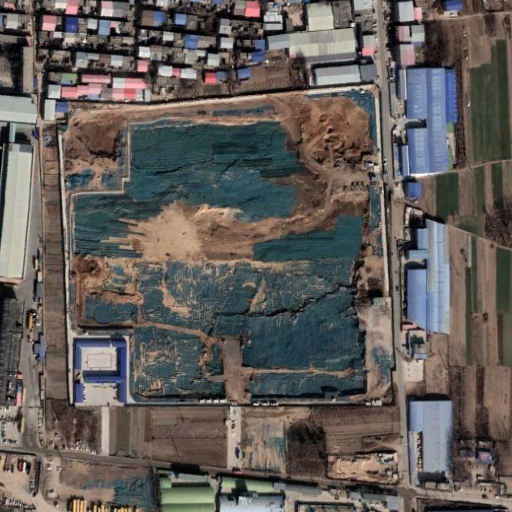cw: (64, 90, 392, 403)
